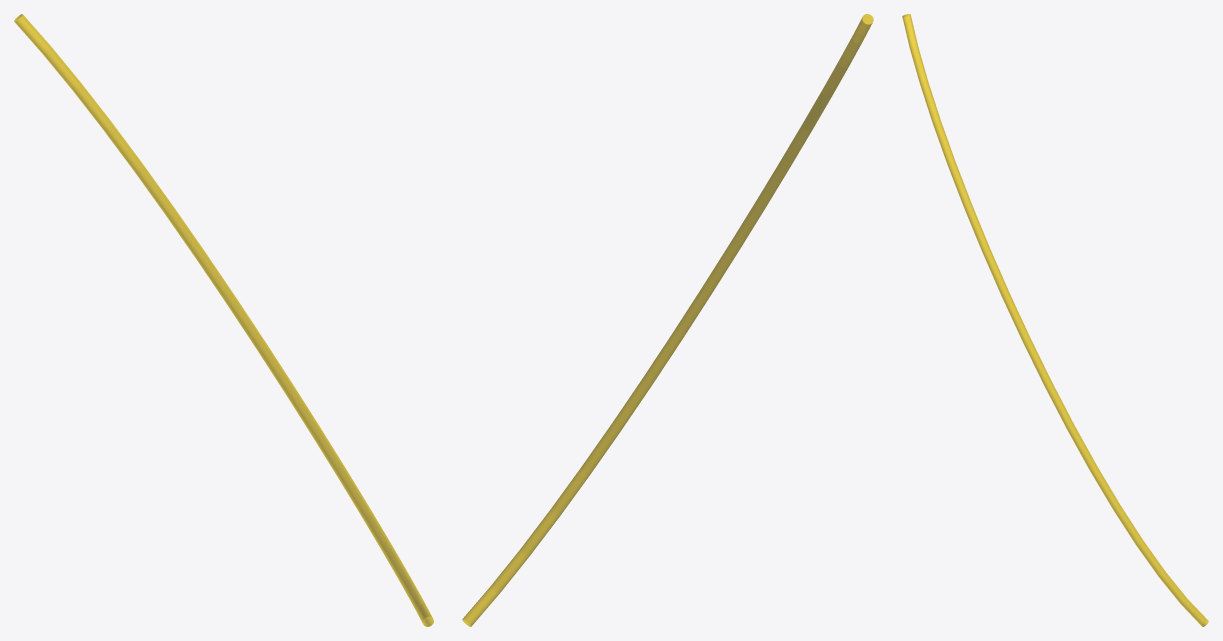
The model's file is Event_27938768_track_9.fbx.
3 renders of one model, left to right at view 1: azimuth 30°, elevation 25°; view 2: azimuth 150°, elevation 25°; view 3: azimuth 330°, elevation 25°, orthographic. The views are drawn at different scales.
Visible parts, largest first — view 1: Model; view 2: Model; view 3: Model.
Part boxes in pixels (left/top/right/bottom): Model: left=14, top=14, right=433, bottom=626; Model: left=462, top=14, right=873, bottom=626; Model: left=902, top=14, right=1208, bottom=626.
Size of the model in its own units: 1.65 by 2.7 by 0.3354.
